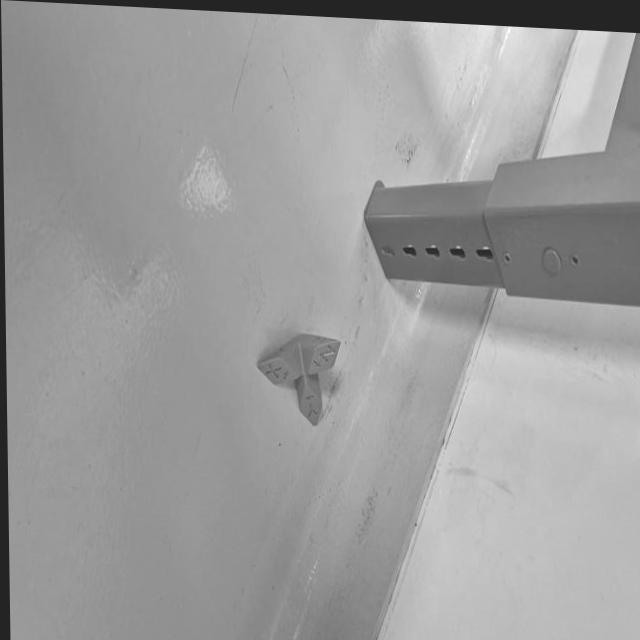eje: (249, 318, 339, 438)
